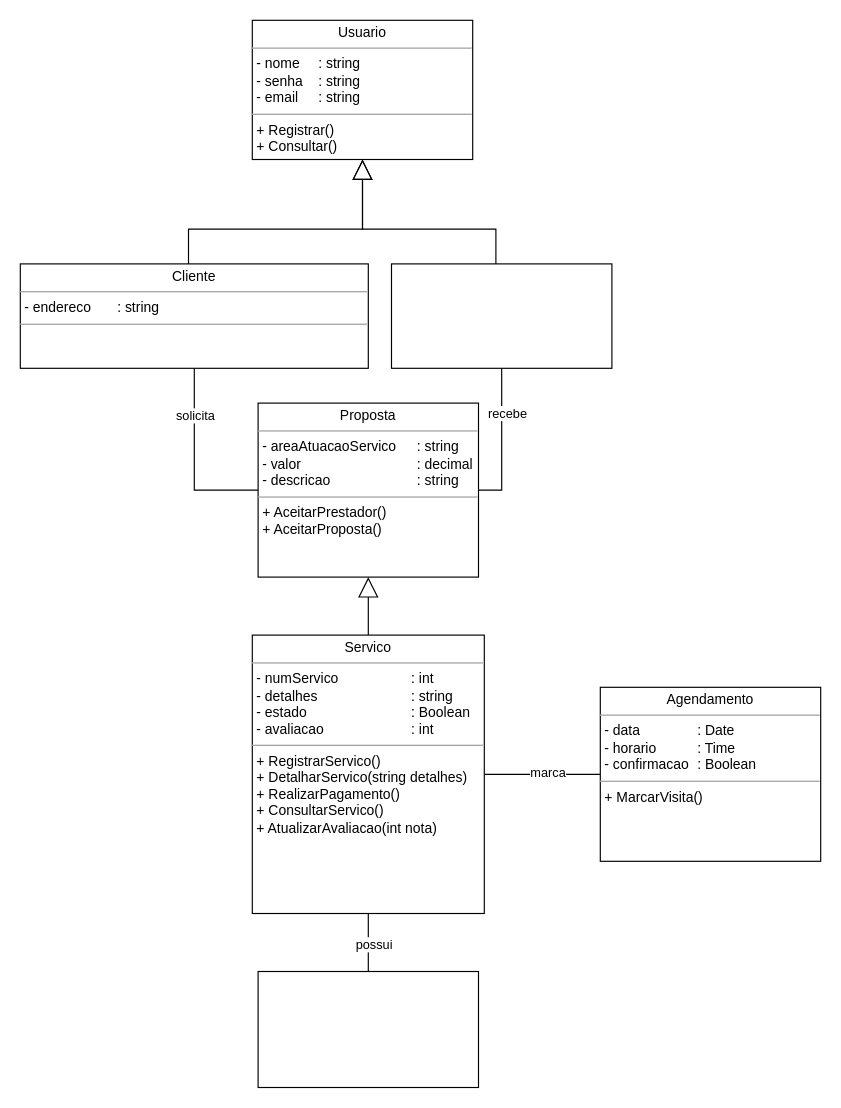
Some shapes in this 841 by 1108 pixel diagram are drawn without their labels. Here are the shapes that lost their labels. From the top down, the centre of each, then its label:
At pixel 501 315: "Prestador - areaAtuacao : string[]".
At pixel 367 1029: "Avaliacao - nota : int - comentario : string".
